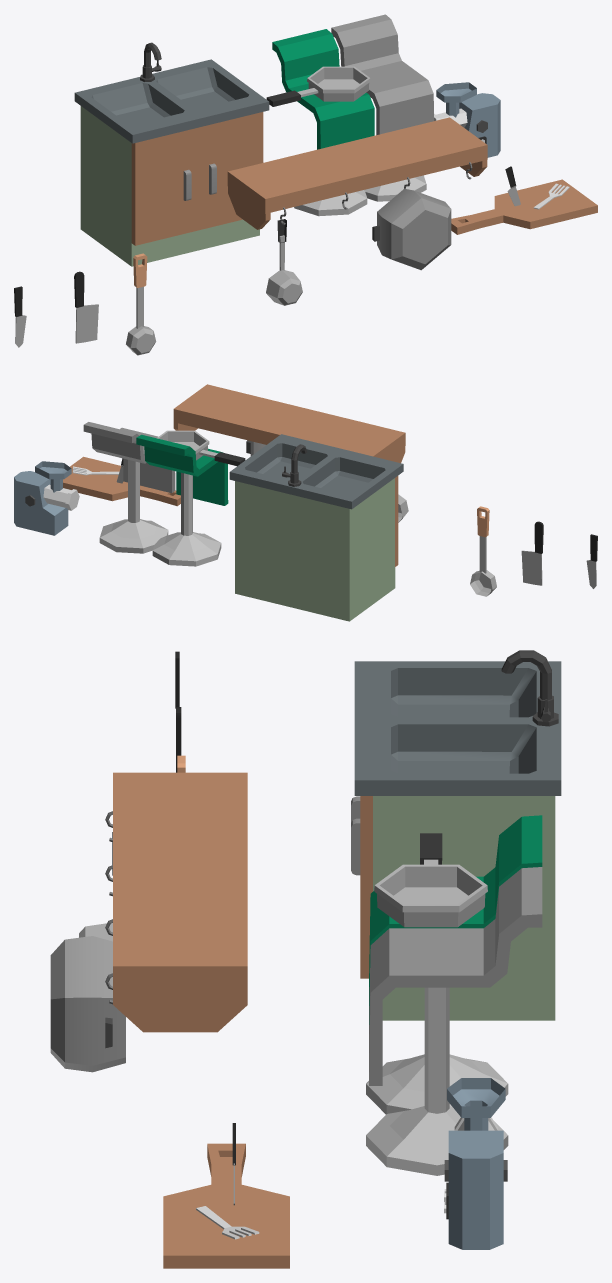
Rendered from Kitchen_Assets.fbx.
3 renders of one model, top to bottom at view 1: azimuth 30°, elevation 25°; view 2: azimuth 150°, elevation 25°; view 3: azimuth 270°, elevation 25°, orthographic. The views are drawn at different scales.
Parts seen in each view (by area): view 1: Kitchen_Basin, Shelf4, Chair1, Chair, Large_Kettle, Cutting_Board, Machine, Fry_pan, Large_Spoone, Small_Kettle, Large_Knife, Small_Knife; view 2: Kitchen_Basin, Shelf4, Chair, Chair1, Machine, Cutting_Board, Large_Spoone, Fry_pan, Large_Knife, Small_Knife; view 3: Kitchen_Basin, Shelf4, Chair1, Cutting_Board, Machine, Large_Kettle, Chair, Fry_pan.
Part boxes in pixels (left/top/right/bottom): Kitchen_Basin: left=74, top=42, right=269, bottom=266; Shelf4: left=227, top=117, right=487, bottom=229; Chair1: left=331, top=14, right=433, bottom=201; Chair: left=272, top=29, right=374, bottom=216; Large_Kettle: left=372, top=189, right=451, bottom=270; Cutting_Board: left=451, top=179, right=597, bottom=234; Machine: left=434, top=82, right=500, bottom=157; Fry_pan: left=266, top=66, right=370, bottom=106; Large_Spoone: left=126, top=253, right=156, bottom=355; Small_Kettle: left=266, top=219, right=302, bottom=305; Large_Knife: left=74, top=271, right=98, bottom=343; Small_Knife: left=14, top=286, right=26, bottom=347; Kitchen_Basin: left=229, top=434, right=403, bottom=621; Shelf4: left=173, top=384, right=405, bottom=463; Chair: left=136, top=434, right=228, bottom=566; Chair1: left=83, top=422, right=175, bottom=553; Machine: left=14, top=461, right=79, bottom=535; Cutting_Board: left=63, top=456, right=180, bottom=506; Large_Spoone: left=470, top=506, right=496, bottom=596; Fry_pan: left=157, top=430, right=245, bottom=466; Large_Knife: left=521, top=521, right=543, bottom=585; Small_Knife: left=586, top=534, right=597, bottom=588; Kitchen_Basin: left=351, top=650, right=561, bottom=1020; Shelf4: left=105, top=772, right=247, bottom=1032; Chair1: left=366, top=867, right=542, bottom=1175; Cutting_Board: left=163, top=1143, right=289, bottom=1268; Machine: left=444, top=1078, right=507, bottom=1249; Large_Kettle: left=50, top=936, right=125, bottom=1072; Chair: left=366, top=815, right=542, bottom=1114; Fry_pan: left=374, top=833, right=487, bottom=927.
Bounding box in the file's own units: 12.6 × 4.37 × 5.38.
